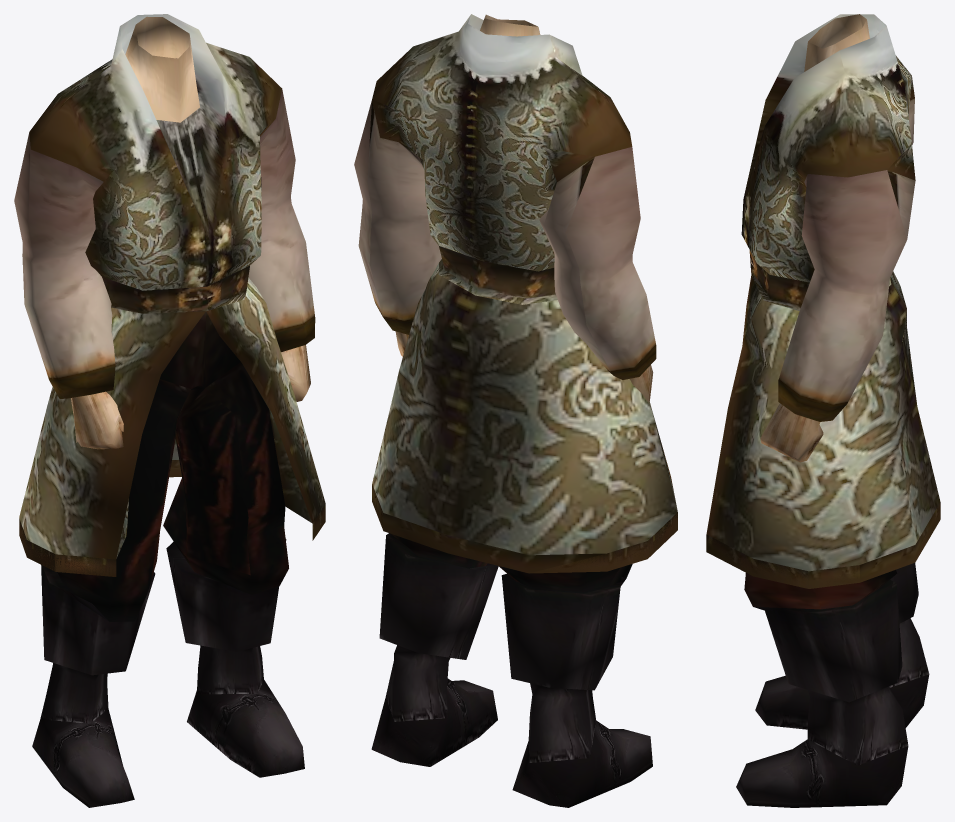
File: WG_ARMOR_ELEGANT_CITIZEN_04.glb
The picture shows the model from 3 angles, left to right: view 1: azimuth 30°, elevation 25°; view 2: azimuth 150°, elevation 25°; view 3: azimuth 270°, elevation 25°; orthographic projection. The views are drawn at different scales.
Parts seen in each view (by area): view 1: WG_ARMOR_ELEGANT_CITIZEN_04; view 2: WG_ARMOR_ELEGANT_CITIZEN_04; view 3: WG_ARMOR_ELEGANT_CITIZEN_04.
Part boxes in pixels (x1,y1,x2,y2): WG_ARMOR_ELEGANT_CITIZEN_04: (14,14,325,807); WG_ARMOR_ELEGANT_CITIZEN_04: (354,14,677,807); WG_ARMOR_ELEGANT_CITIZEN_04: (706,14,940,807).
Size of the model in its own units: 0.651 by 1.69 by 0.4847.
Materials: 3 (3 with a texture image).
